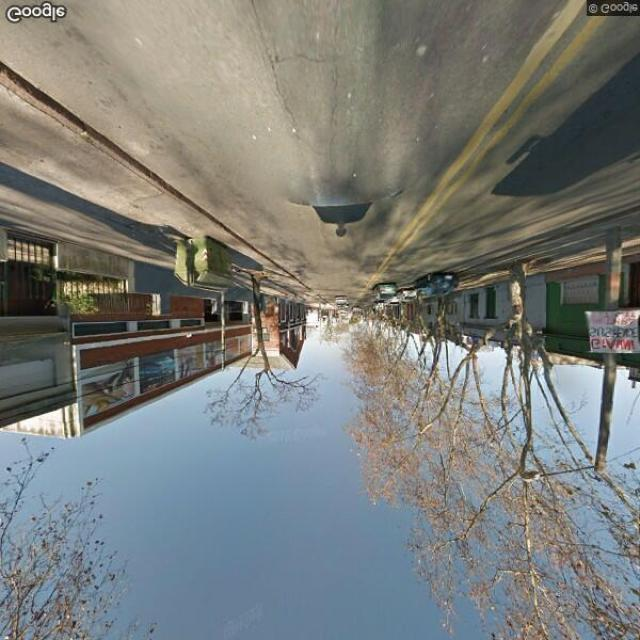garbage container: (166, 228, 243, 301)
